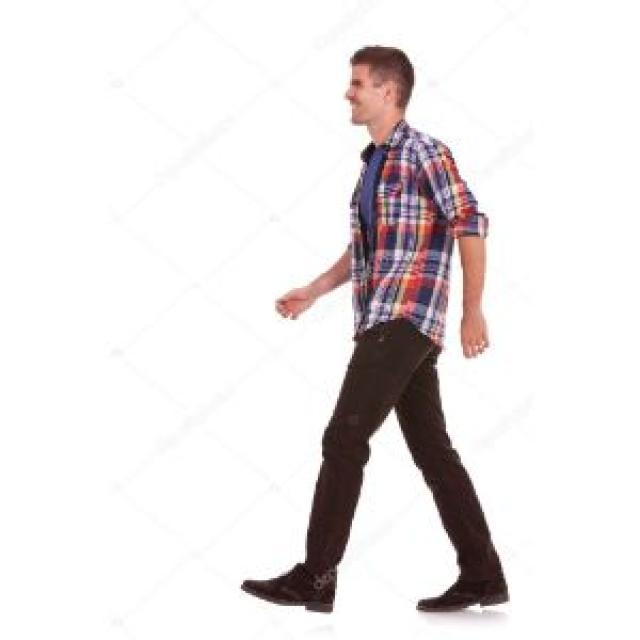nonfall: (254, 40, 511, 640)
